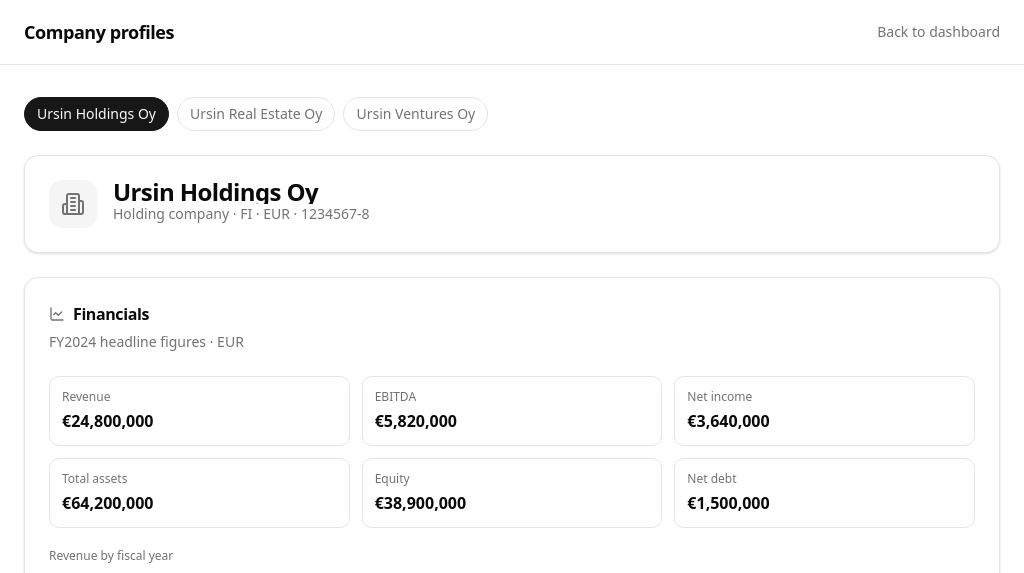
CompanyProfilePage › shows a negative net income in the destructive style for a loss-making entity
Click the tab "Ursin Ventures Oy": (416, 114) [343,97,488,131]
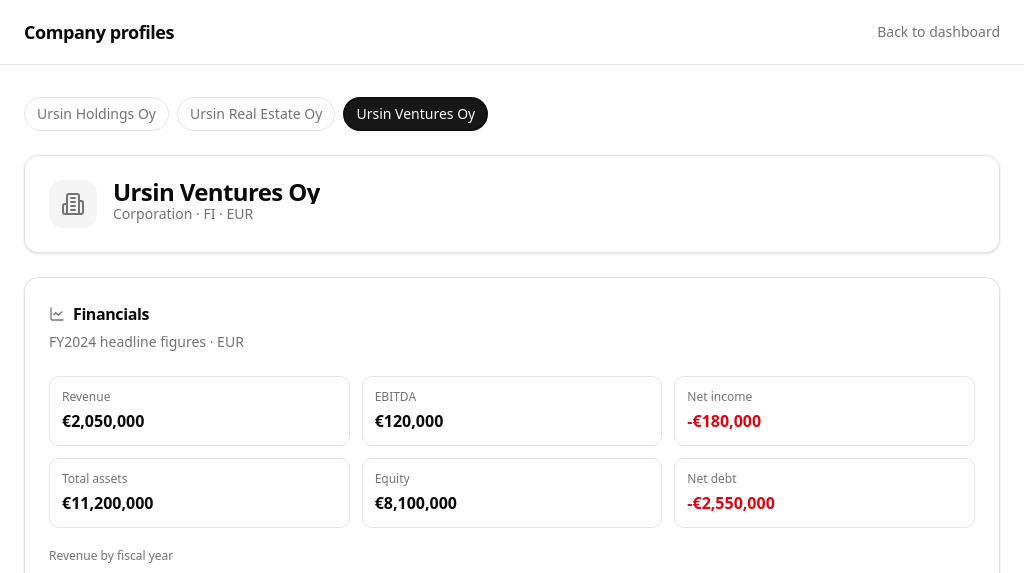
Check: the element with test id "financial-kpi" showing "Net income -€180,000" is shown, box [674,376,975,446]
Check: the text "-€180,000" is shown, box [687,410,761,432]
